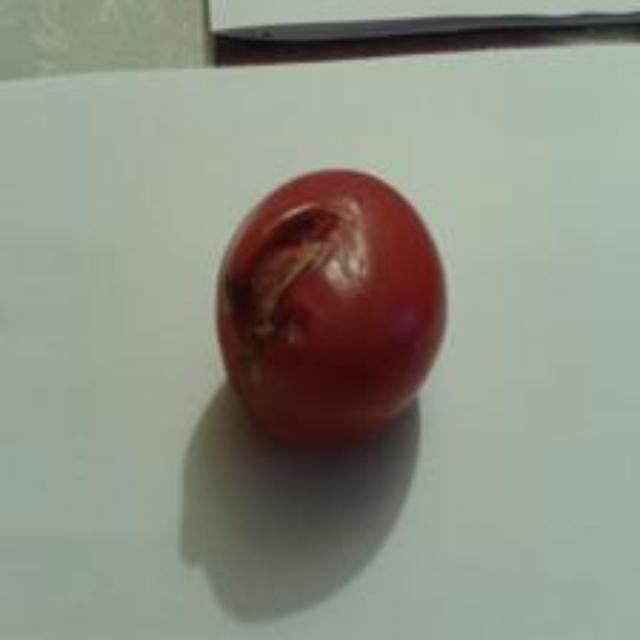defect: (210, 161, 452, 453)
